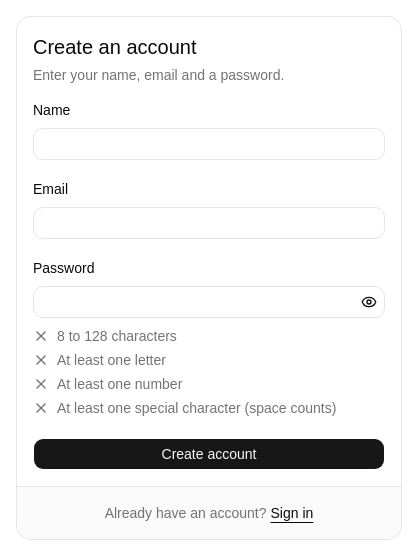
Test: /signup: success lands on /app with the welcome text
Type "Ann" into the field labelled "Name" at [209, 144], box [33, 128, 385, 160]
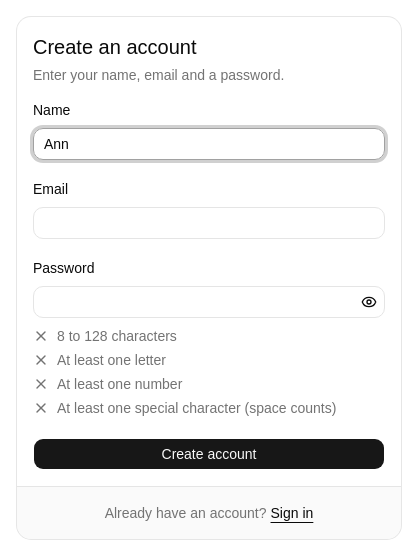
Type "ann@example.com" into the field labelled "Email" at [209, 223], box [33, 207, 385, 239]
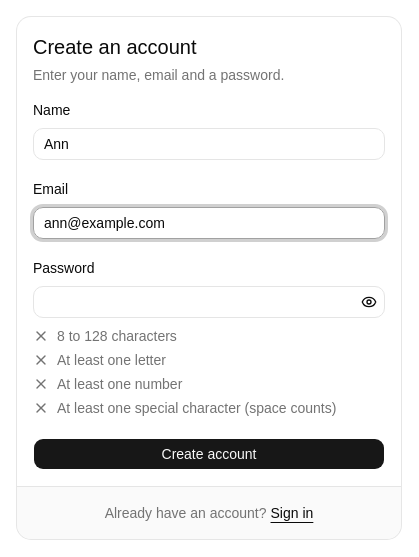
Type "abc12345!" into the password field labelled "Password" at [209, 302], box [33, 286, 385, 318]
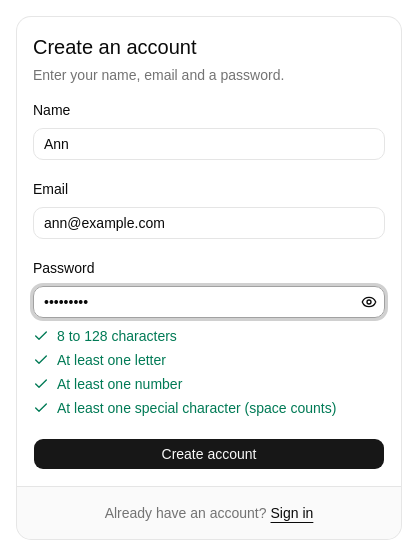
Click the button "Create account" at [209, 454], box [33, 438, 385, 470]
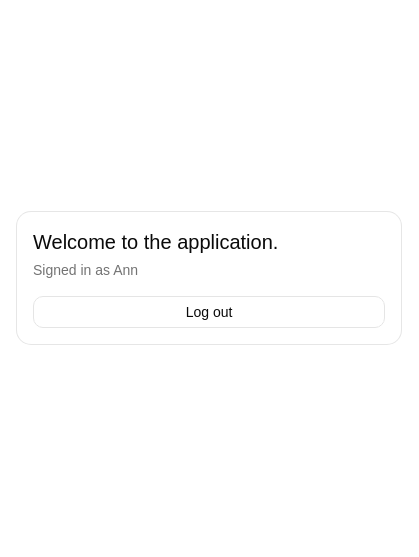
Result: the heading "Welcome to the application." is shown at [33, 231, 278, 253]
Result: the text "Signed in as Ann" is shown at [33, 262, 138, 278]
